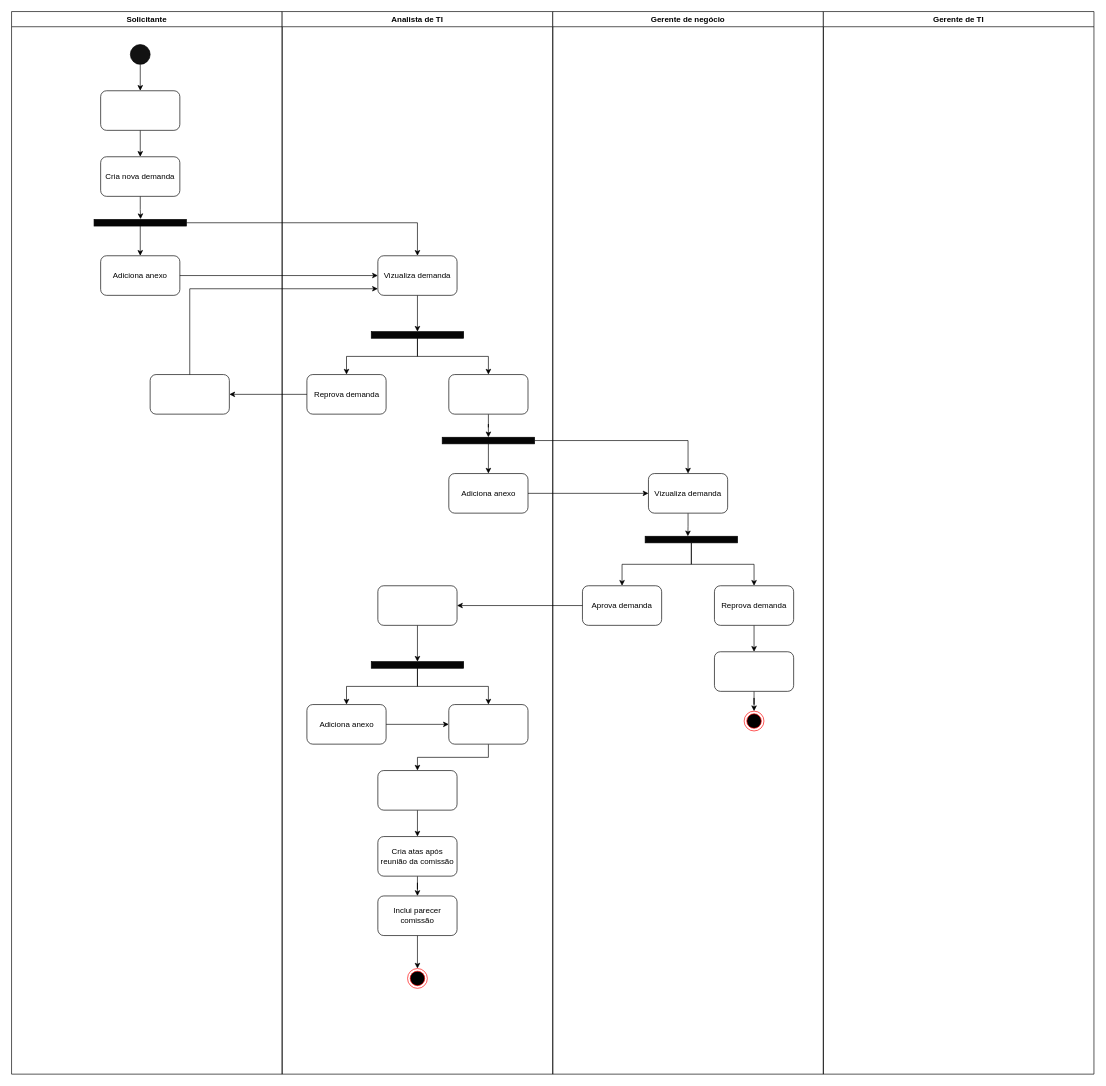
Some shapes in this 1106 by 1086 pixel diagram are drawn without their labels. The shapes that lost their labels are listed below. From the top down, each one's centre as x and y in pixels, then its label:
At (x=140, y=110): "Fazer Login".
At (x=189, y=394): "Editar demanda".
At (x=488, y=394): "Classifica demanda".
At (x=417, y=605): "Finaliza classificação da demanda".
At (x=754, y=671): "Informa motivo da reprovação".
At (x=488, y=724): "Cria proposta".
At (x=417, y=790): "Cria pauta".
